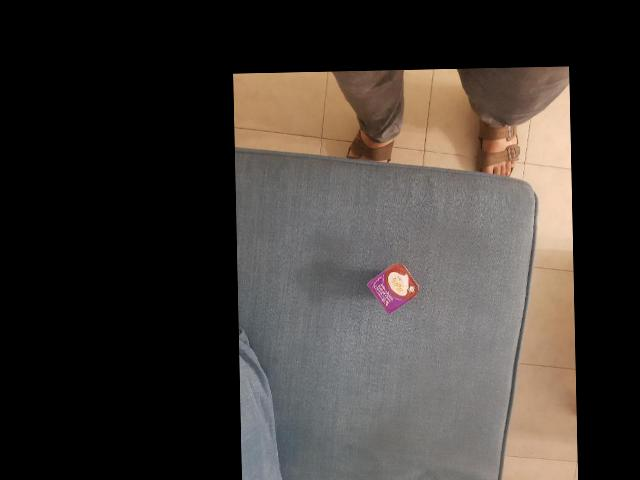milky: (308, 331, 371, 390)
